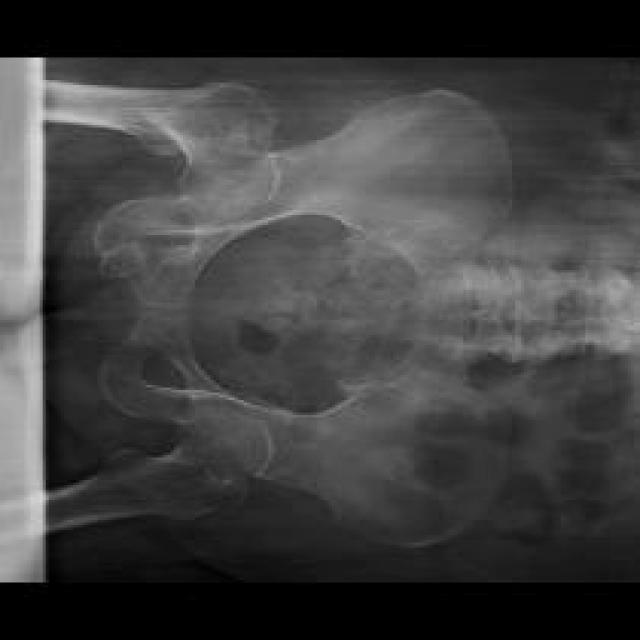normal: (0, 308, 510, 538), (38, 79, 508, 309)
